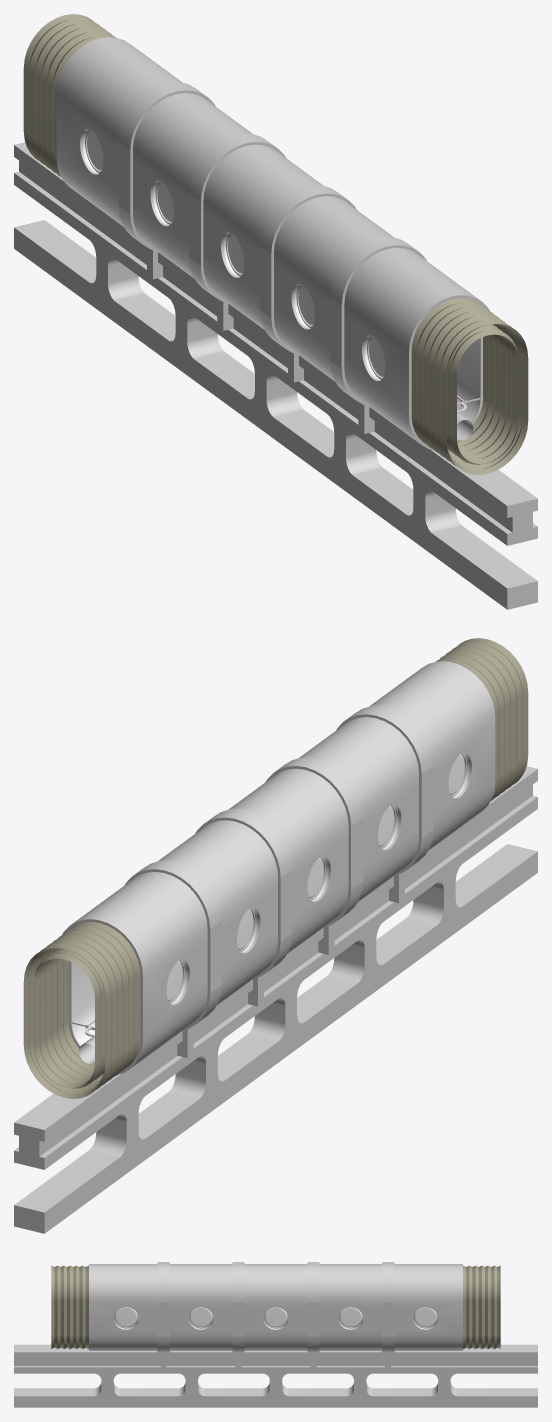
The model's file is bridge_alt.fbx.
3 renders of one model, top to bottom at view 1: azimuth 30°, elevation 25°; view 2: azimuth 150°, elevation 25°; view 3: azimuth 270°, elevation 25°, orthographic. The views are drawn at different scales.
Visible parts, largest first — view 1: plasteel_combined, airlock_seals, windows1, plastic_combined; view 2: plasteel_combined, airlock_seals, windows1, plastic_combined; view 3: plasteel_combined, airlock_seals, windows1.
Boxes of the visible parts, bbox=[...] form: plasteel_combined: bbox=[14, 37, 537, 609]; airlock_seals: bbox=[23, 14, 528, 474]; windows1: bbox=[87, 130, 385, 377]; plastic_combined: bbox=[82, 129, 479, 421]; plasteel_combined: bbox=[14, 661, 537, 1233]; airlock_seals: bbox=[23, 638, 528, 1098]; windows1: bbox=[166, 754, 464, 1001]; plastic_combined: bbox=[72, 753, 469, 1045]; plasteel_combined: bbox=[14, 1262, 537, 1407]; airlock_seals: bbox=[51, 1265, 500, 1349]; windows1: bbox=[114, 1307, 437, 1327].
Size of the model in its own units: 4.5 by 12.25 by 42.
